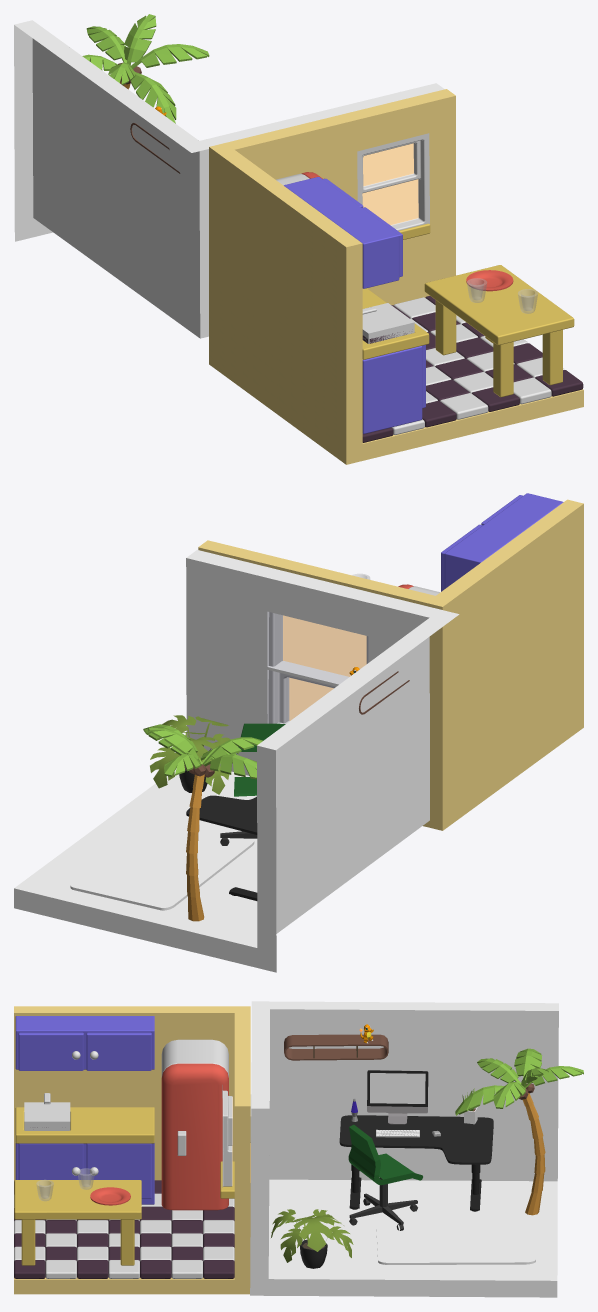
3 renders of one model, top to bottom at view 1: azimuth 30°, elevation 25°; view 2: azimuth 150°, elevation 25°; view 3: azimuth 270°, elevation 25°, orthographic. The views are drawn at different scales.
Visible parts, largest first — view 1: Plane, Plane.013, Plane.001, Plane.009, Cube.004, palm_tree_01-Mesh, Plane.007, Plane.002, Plane.010, Cube, Plane.003, Circle.002; view 2: Plane.013, Plane, Plane.012, Cube.006, palm_tree_01-Mesh, Plane.007, Houseplant_7, Plane.001_Plane.002_BlackWood.001, Node-Mesh; view 3: Plane.013, Plane, Plane.001, Plane.005, Plane.012, Plane.001_Plane.002_BlackWood.001, Plane.008, Plane.006, Plane.009, palm_tree_01-Mesh, Plane.003, Node-Mesh (+10 smaller).
Boxes of the visible parts, x1,y1,x2,y2 form: Plane: (209,89,583,464); Plane.013: (14,20,444,338); Plane.001: (362,296,583,442); Plane.009: (424,265,574,345); Cube.004: (357,133,429,230); palm_tree_01-Mesh: (82,14,209,123); Plane.007: (284,177,399,288); Plane.002: (362,346,422,433); Plane.010: (435,300,562,397); Cube: (362,303,414,343); Plane.003: (362,288,429,359); Circle.002: (466,270,513,291); Plane.013: (14,550,459,972); Plane: (198,499,583,830); Plane.012: (70,816,254,910); Cube.006: (267,612,368,723); palm_tree_01-Mesh: (143,724,262,921); Plane.007: (444,493,563,588); Houseplant_7: (150,715,239,794); Plane.001_Plane.002_BlackWood.001: (186,795,257,900); Node-Mesh: (220,723,285,845); Plane.013: (250,1001,558,1297); Plane: (14,1006,250,1294); Plane.001: (14,1180,234,1278); Plane.005: (161,1063,228,1210); Plane.012: (376,1221,535,1264); Plane.001_Plane.002_BlackWood.001: (339,1115,493,1211); Plane.008: (18,1032,151,1070); Plane.006: (18,1143,151,1198); Plane.009: (14,1180,141,1219); palm_tree_01-Mesh: (455,1048,583,1215); Plane.003: (15,1107,154,1143); Node-Mesh: (348,1124,422,1230).
Size of the model in its own units: 8.9 by 7.11 by 19.26.
